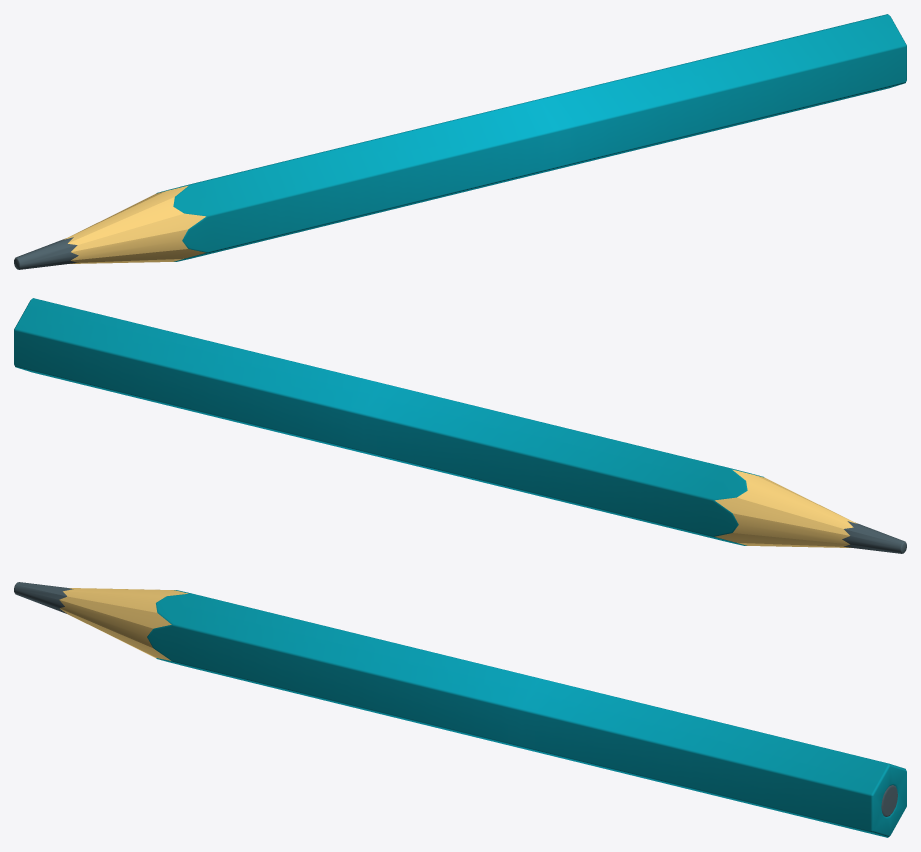
The model's file is Pencil_01.glb.
3 renders of one model, top to bottom at view 1: azimuth 30°, elevation 25°; view 2: azimuth 150°, elevation 25°; view 3: azimuth 330°, elevation 25°, orthographic.
Parts seen in each view (by area): view 1: Pencil_01; view 2: Pencil_01; view 3: Pencil_01.
Part boxes in pixels (bbox=[...]): Pencil_01: bbox=[14, 14, 906, 269]; Pencil_01: bbox=[14, 298, 906, 553]; Pencil_01: bbox=[14, 582, 906, 837].
Size of the model in its own units: 0.1519 by 0.0122 by 0.0107.
Materials: 1 (1 with a texture image).
